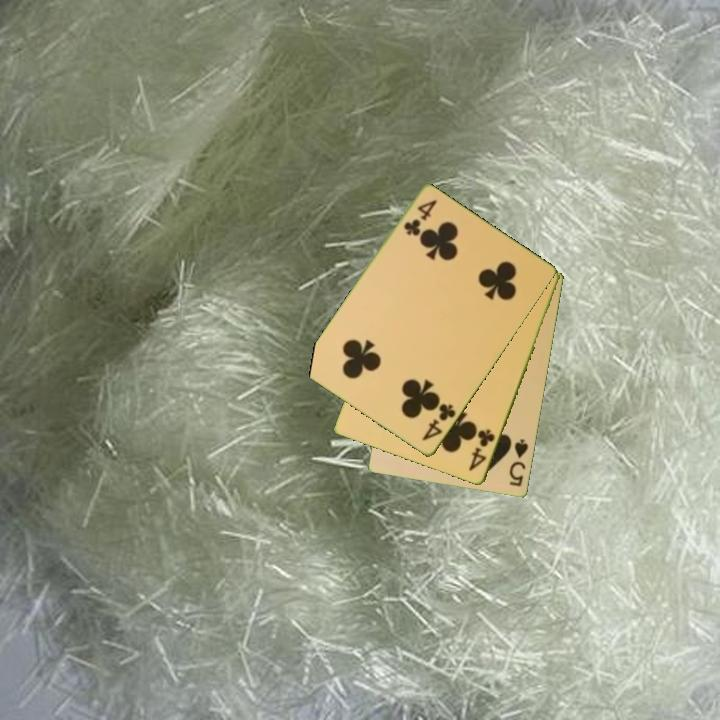4c: (418, 400, 459, 444), (400, 196, 440, 239), (465, 426, 498, 474)
5s: (506, 436, 531, 489)
